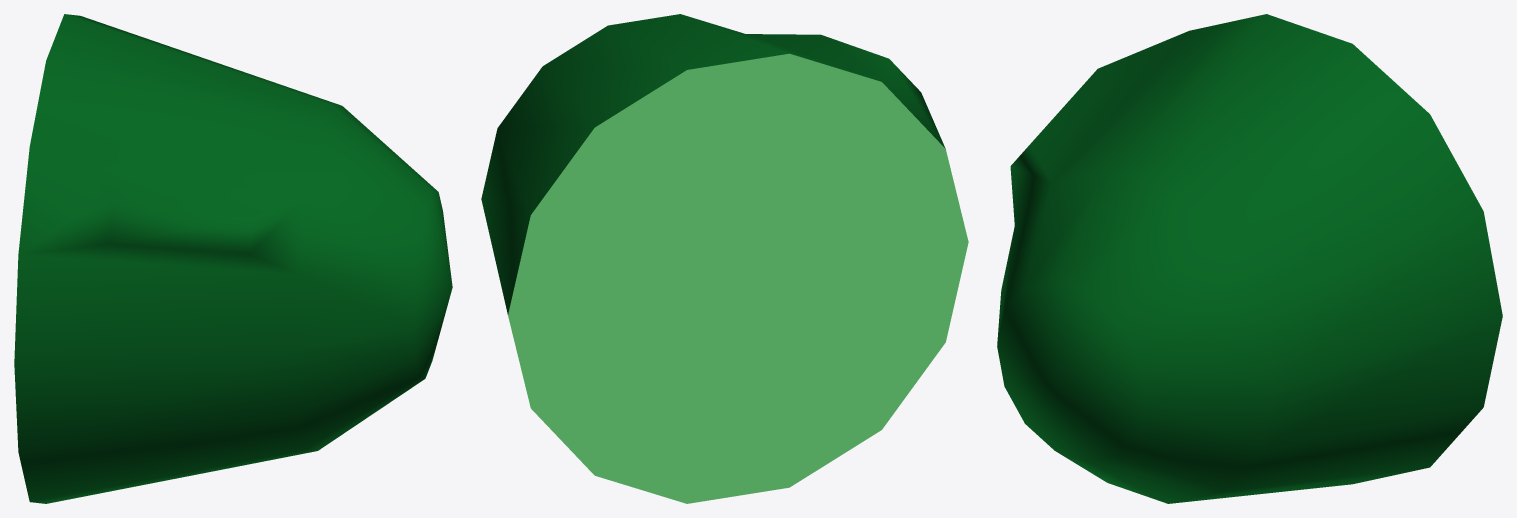
Rendered from mesh_Pickle_Stage12.fbx.
The picture shows the model from 3 angles, left to right: view 1: azimuth 30°, elevation 25°; view 2: azimuth 150°, elevation 25°; view 3: azimuth 270°, elevation 25°; orthographic projection. The views are drawn at different scales.
Visible parts, largest first — view 1: mesh_Pickle_Stage12; view 2: mesh_Pickle_Stage12; view 3: mesh_Pickle_Stage12.
Part boxes in pixels (x1,y1,x2,y2): mesh_Pickle_Stage12: [14, 14, 452, 503]; mesh_Pickle_Stage12: [481, 14, 968, 503]; mesh_Pickle_Stage12: [997, 14, 1502, 503].
Size of the model in its own units: 0.0341 by 0.0325 by 0.0338.
